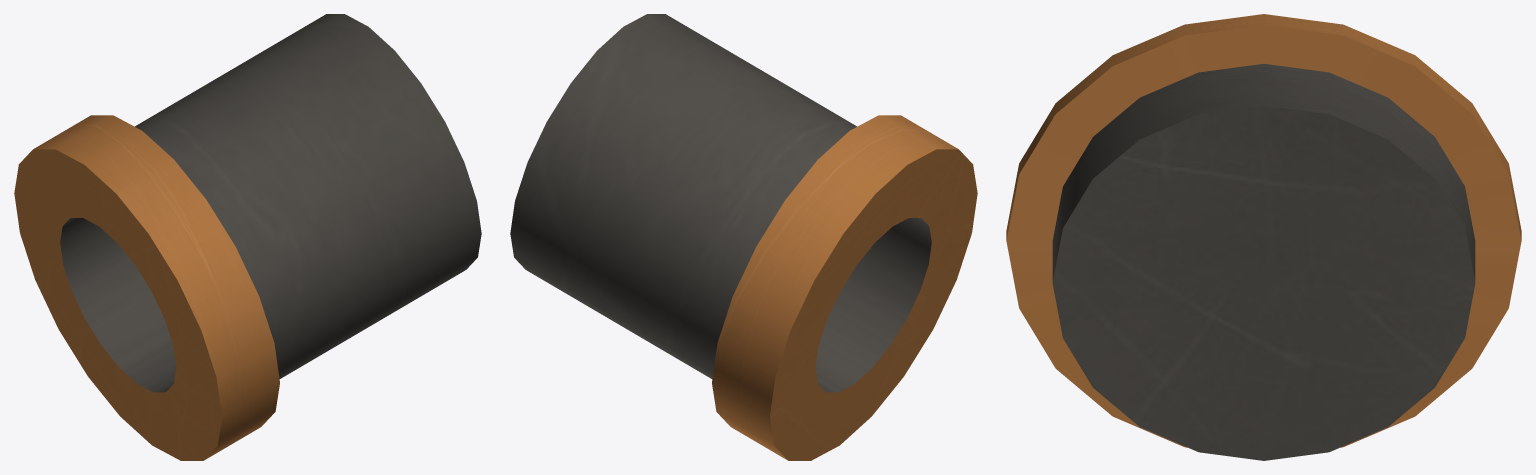
Rendered from canion.obj.
The picture shows the model from 3 angles, left to right: view 1: azimuth 30°, elevation 25°; view 2: azimuth 150°, elevation 25°; view 3: azimuth 270°, elevation 25°; orthographic projection. The views are drawn at different scales.
Visible parts, largest first — view 1: polySurface1025polySurface1391polySurface1392; view 2: polySurface1025polySurface1391polySurface1392; view 3: polySurface1025polySurface1391polySurface1392.
Boxes of the visible parts, left/top/right/bottom form: polySurface1025polySurface1391polySurface1392: left=14, top=14, right=481, bottom=460; polySurface1025polySurface1391polySurface1392: left=510, top=14, right=977, bottom=460; polySurface1025polySurface1391polySurface1392: left=1006, top=14, right=1521, bottom=460.
Size of the model in its own units: 1.56 by 1.6 by 1.56.
Materials: 2 (2 with a texture image).
